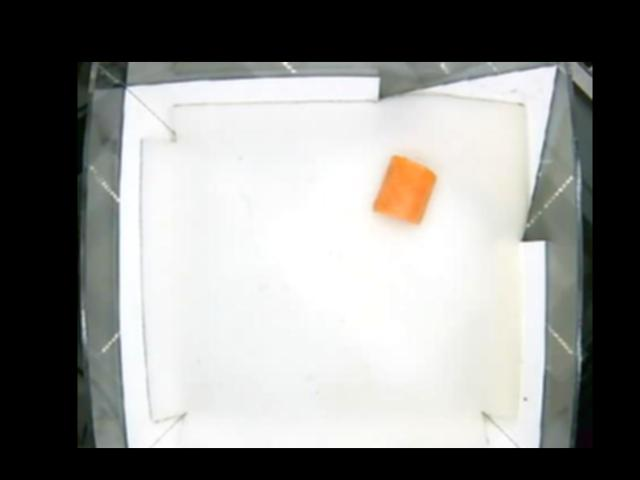Carrot: (372, 155, 436, 226)
